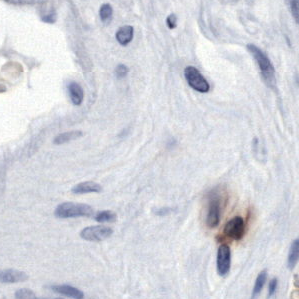Lymphocyte: (222, 213, 249, 243)
